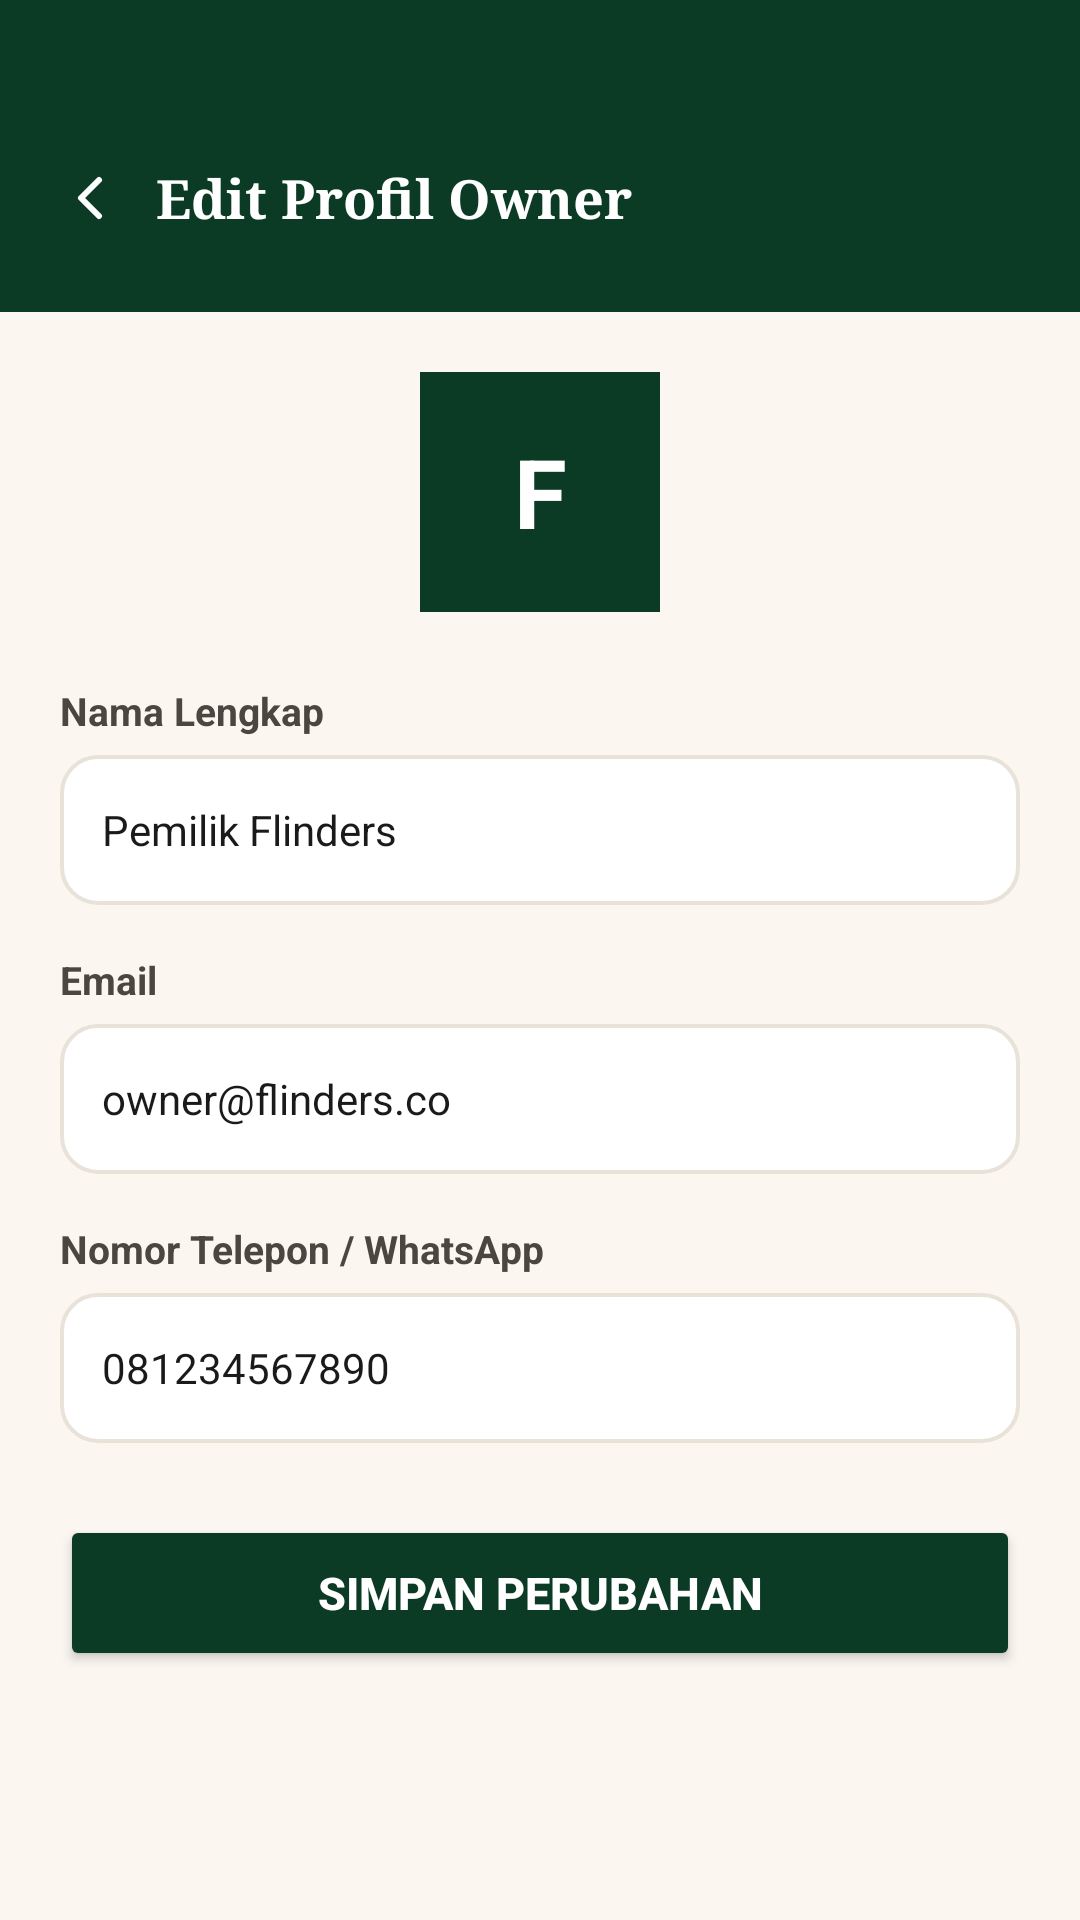

Locate icon controls on the screen. Image size 1080px×1920px, boxes as [x1, y1, x2, y2].
back: [78, 177, 102, 219]
